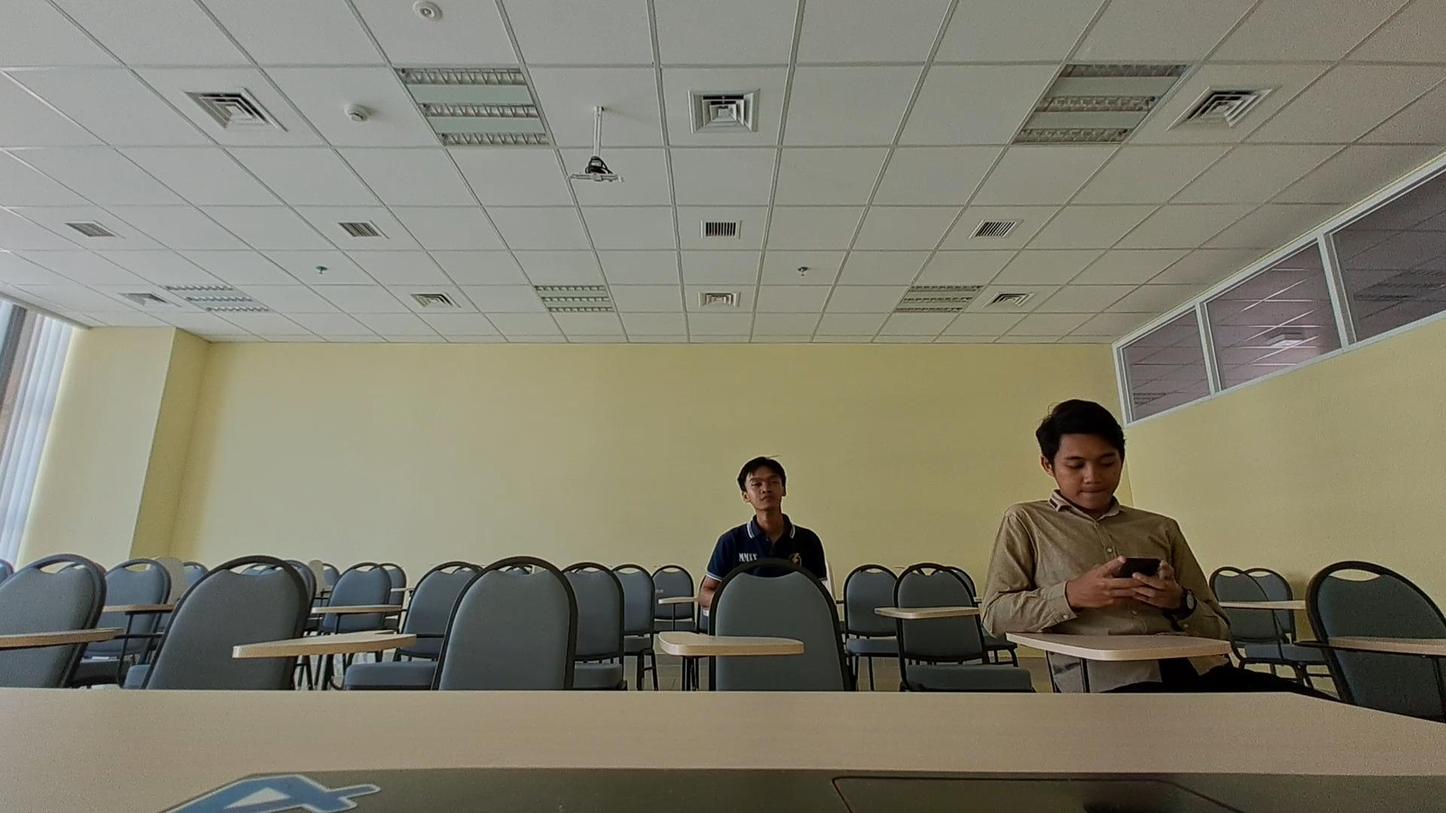phone: (979, 391, 1224, 632)
study: (699, 450, 832, 636)
